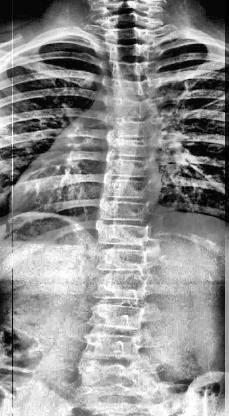Vertebrae: (100, 242, 156, 280), (79, 330, 141, 360), (77, 360, 139, 388), (99, 223, 155, 253), (90, 301, 142, 333), (96, 271, 148, 303), (99, 198, 152, 224), (103, 176, 155, 202), (107, 156, 153, 182), (108, 136, 150, 162), (112, 96, 150, 122), (108, 115, 148, 139), (107, 42, 143, 62), (112, 62, 148, 80), (114, 78, 146, 98), (106, 29, 143, 42)
